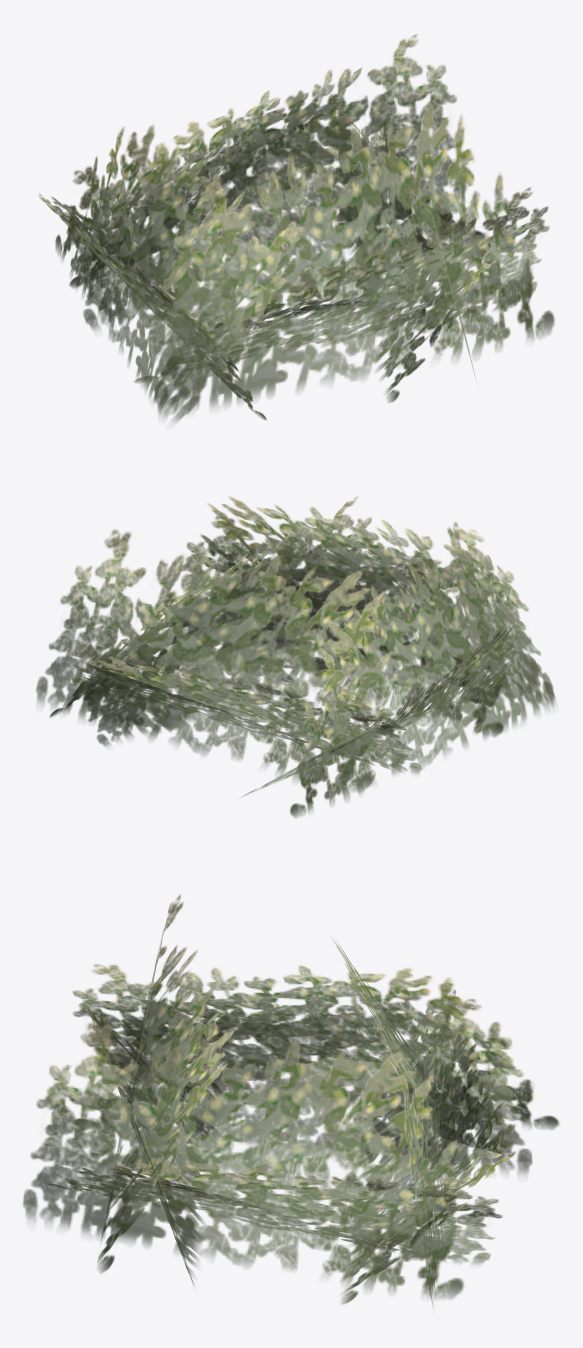
File: grass-09.glb
3 renders of one model, top to bottom at view 1: azimuth 30°, elevation 25°; view 2: azimuth 150°, elevation 25°; view 3: azimuth 270°, elevation 25°, orthographic. The views are drawn at different scales.
Parts seen in each view (by area): view 1: Plane_021; view 2: Plane_021; view 3: Plane_021.
Boxes of the visible parts, x1=… form: Plane_021: x1=38, y1=34, x2=554, y2=422; Plane_021: x1=36, y1=496, x2=555, y2=817; Plane_021: x1=23, y1=894, x2=559, y2=1305.
Bounding box in the file's own units: 5.02 × 2.34 × 4.81.
Materials: 1 (1 with a texture image).
